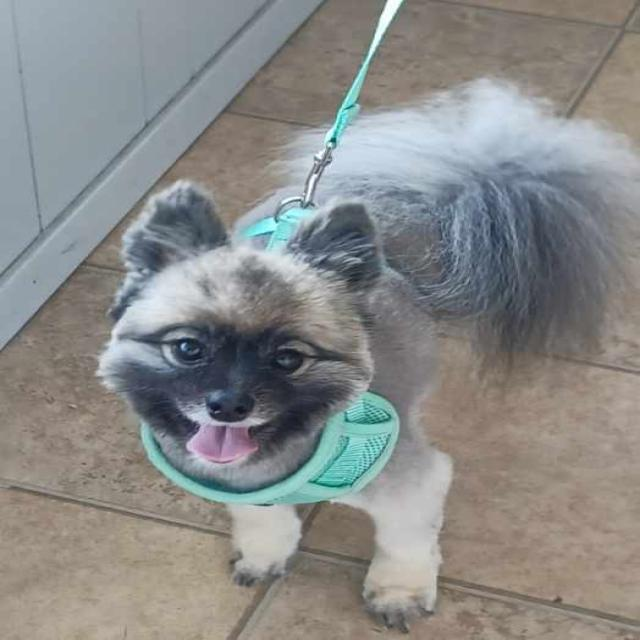pomeranian_dog: (79, 170, 404, 485)
